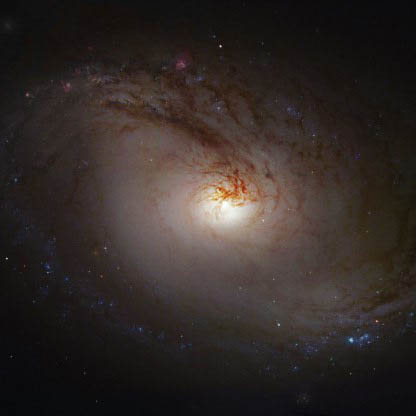Messier 96: (6, 13, 411, 363)
